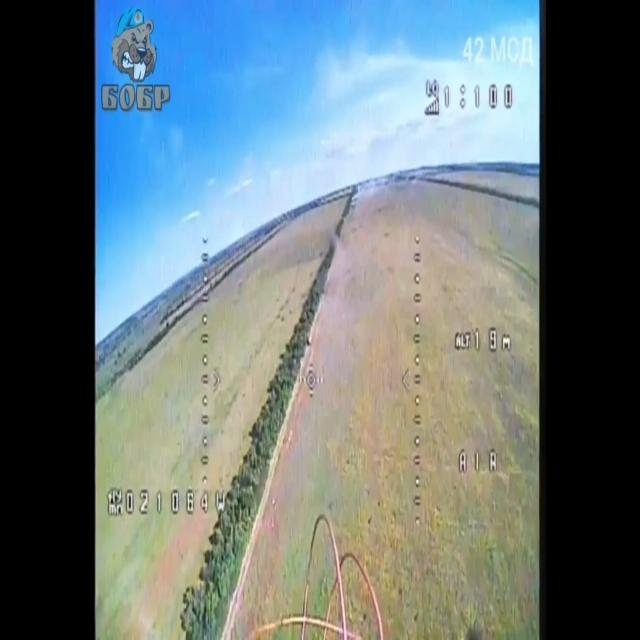cars: (306, 332, 312, 344)
